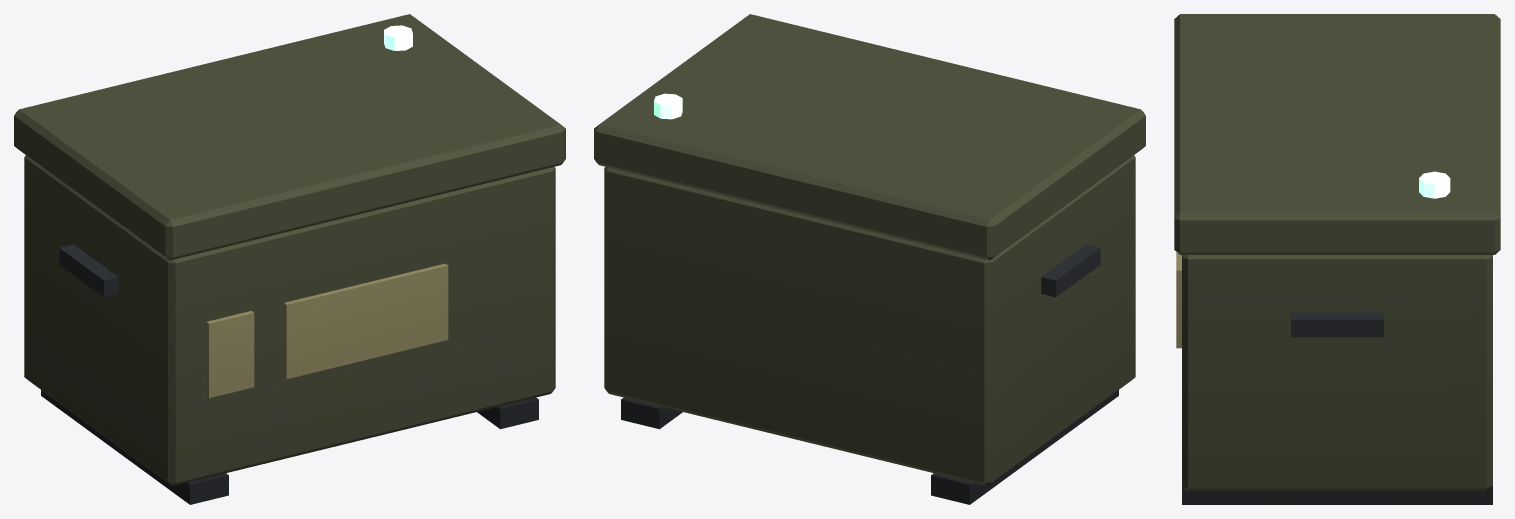
The model's file is cache.glb.
3 renders of one model, left to right at view 1: azimuth 30°, elevation 25°; view 2: azimuth 150°, elevation 25°; view 3: azimuth 270°, elevation 25°, orthographic. The views are drawn at different scales.
Visible parts, largest first — view 1: cache; view 2: cache; view 3: cache.
Part boxes in pixels (x1,y1,x2,y2): cache: [14, 14, 565, 504]; cache: [594, 14, 1145, 504]; cache: [1174, 14, 1500, 504].
Bounding box in the file's own units: 1.29 × 0.9 × 0.84.
